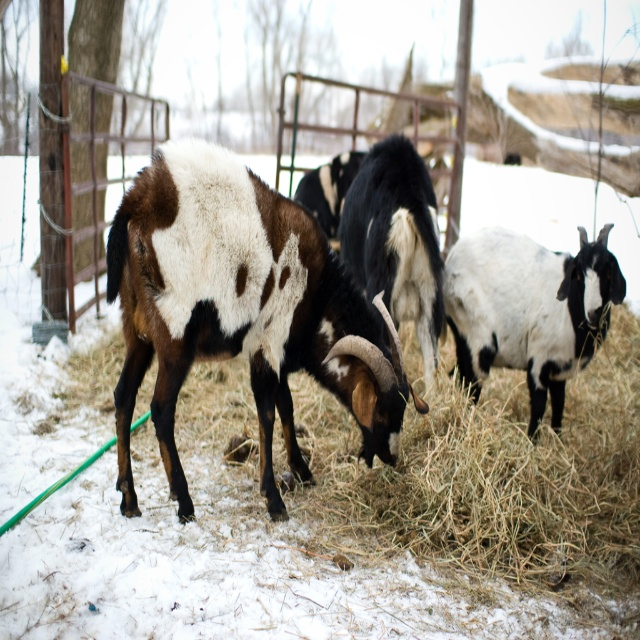Goat: (105, 131, 628, 524)
